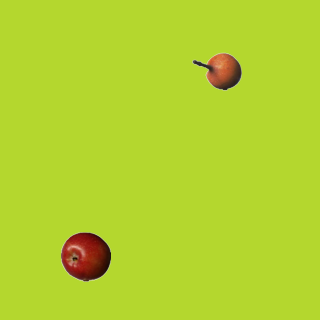Apple Braeburn: (60, 231, 110, 281)
Granadilla: (191, 46, 241, 96)
